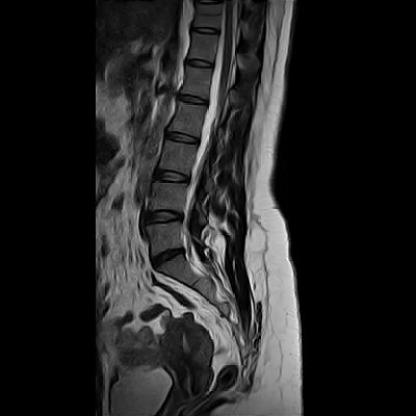Disc Bulgerotation: (143, 208, 185, 226)
Disc Protrusionrotation: (150, 249, 187, 266)
